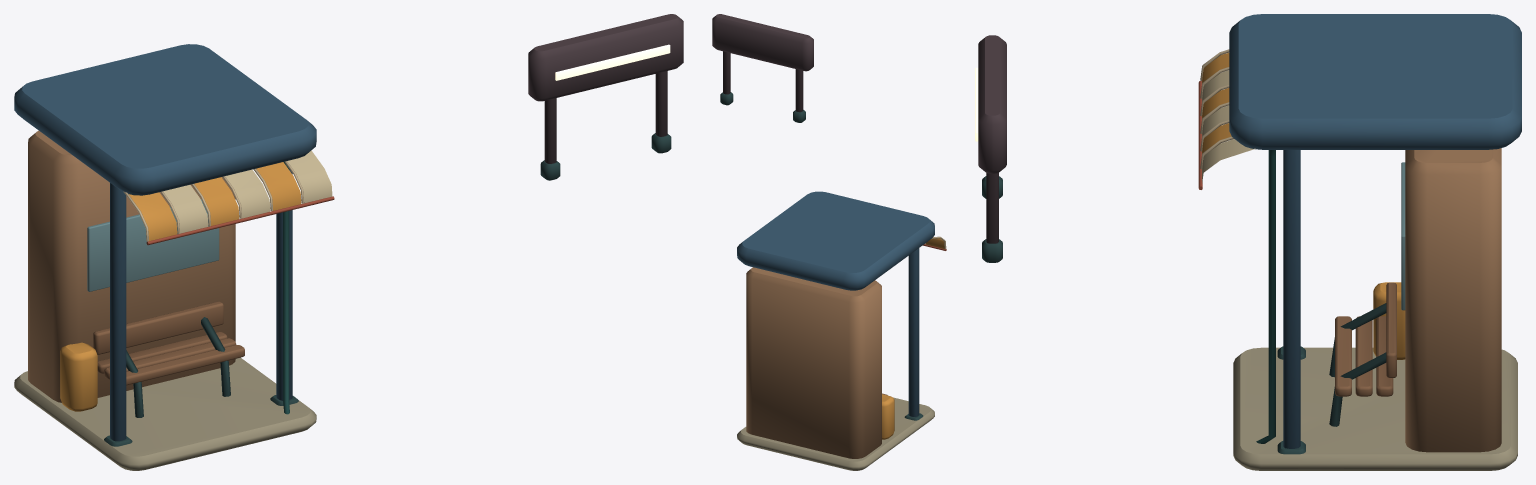
File: alpine_parking_4.glb
The picture shows the model from 3 angles, left to right: view 1: azimuth 30°, elevation 25°; view 2: azimuth 150°, elevation 25°; view 3: azimuth 270°, elevation 25°; orthographic projection. The views are drawn at different scales.
Visible parts, largest first — view 1: Parking4; view 2: Parking4; view 3: Parking4.
Part boxes in pixels (bbox=[...]): Parking4: bbox=[14, 14, 683, 470]; Parking4: bbox=[712, 14, 946, 470]; Parking4: bbox=[975, 14, 1521, 470].
Size of the model in its own units: 5.28 by 4.8 by 4.77.
